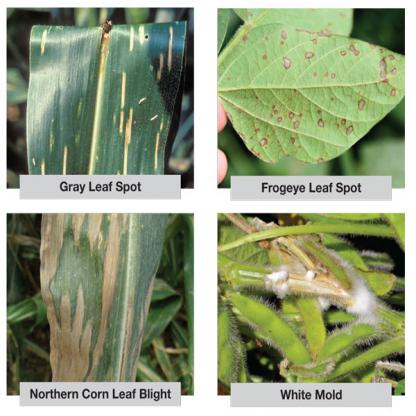corn gray leaf spot: (19, 14, 191, 175)
